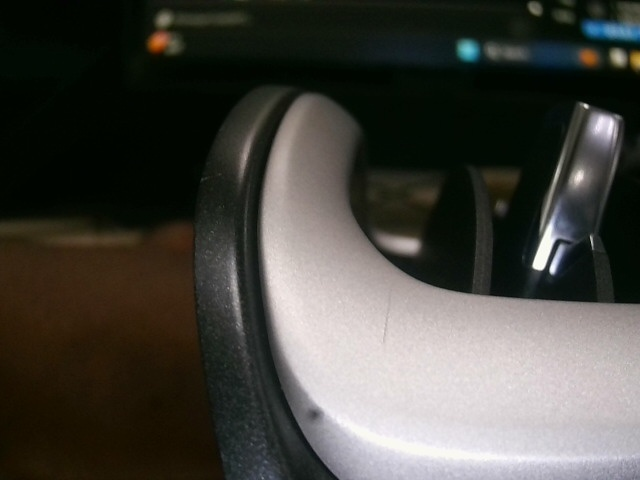NG: (379, 284, 405, 350), (197, 164, 227, 203)
